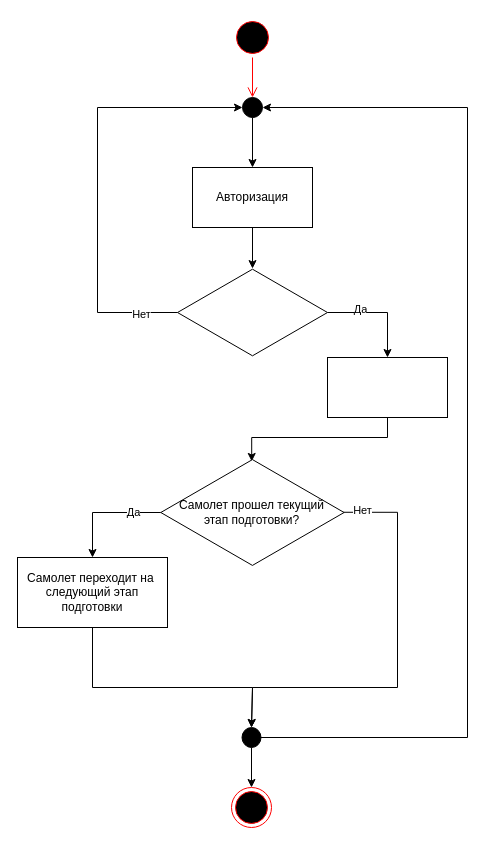
Image size: 493x845. Some labels were removed from this diagram. The box of each missing label's shape, as (x1, y1, x2, y2) in pixels:
Просмотр самолетов: (326, 356, 448, 418)
Успешная авторизация?: (176, 266, 328, 358)
